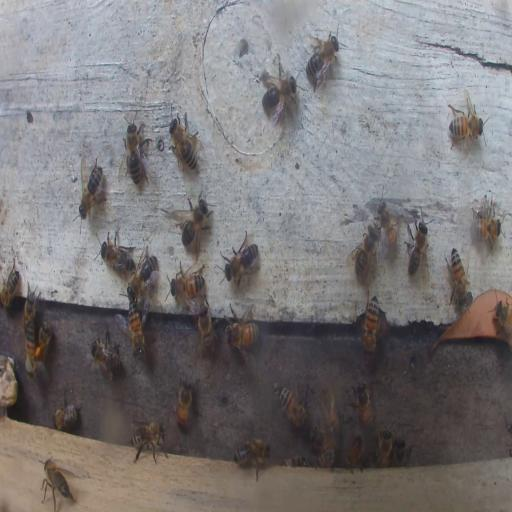nonpollenbee: (259, 56, 297, 120), (221, 229, 260, 287), (176, 192, 214, 250), (304, 30, 340, 90), (120, 116, 149, 188), (168, 112, 200, 174), (77, 156, 107, 220), (41, 456, 74, 510), (130, 420, 168, 464), (404, 209, 428, 278), (348, 224, 379, 277), (98, 230, 133, 276), (233, 435, 270, 478), (471, 197, 502, 246), (89, 333, 122, 379), (276, 385, 309, 430), (128, 250, 156, 301), (446, 248, 470, 307), (169, 264, 205, 301), (361, 293, 382, 355), (376, 195, 398, 250), (448, 108, 485, 140), (196, 302, 215, 359), (128, 302, 146, 362), (224, 316, 260, 346), (320, 386, 339, 439), (52, 396, 80, 430), (174, 380, 192, 432), (0, 263, 20, 309), (354, 381, 372, 428), (490, 300, 511, 340), (312, 436, 336, 468), (375, 426, 393, 466), (35, 321, 52, 363), (24, 282, 36, 341), (345, 435, 363, 472), (394, 438, 412, 465), (282, 456, 308, 466)
pollenbee: (26, 320, 40, 380)
